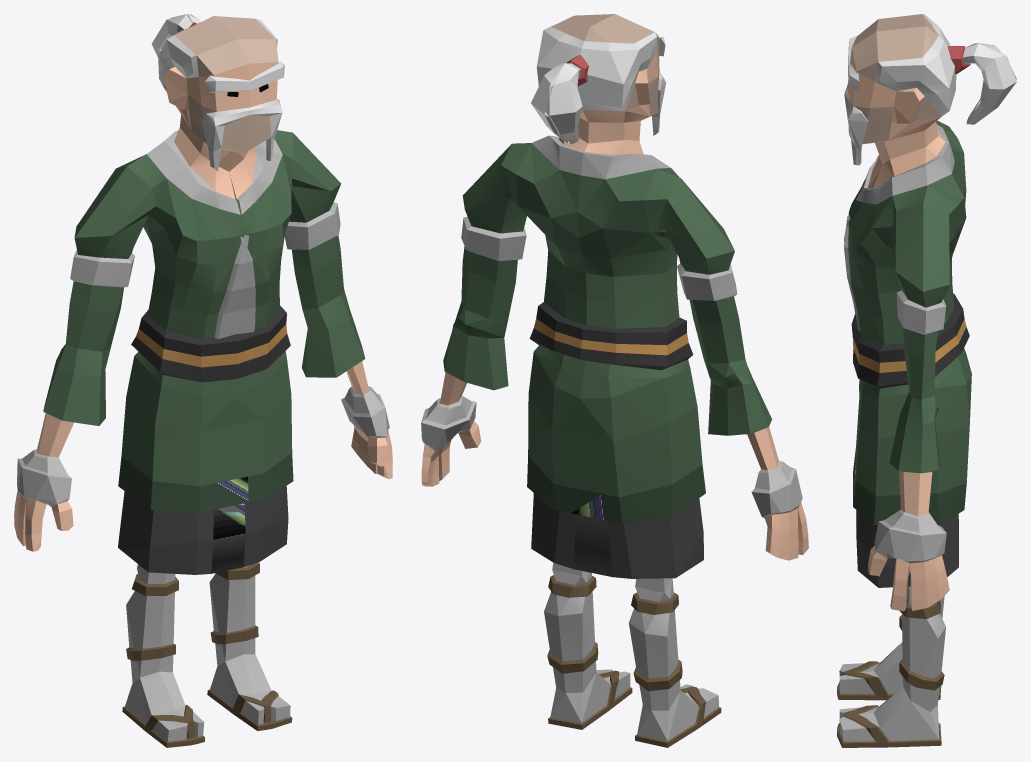
File: Monk (1).fbx
3 renders of one model, left to right at view 1: azimuth 30°, elevation 25°; view 2: azimuth 150°, elevation 25°; view 3: azimuth 270°, elevation 25°, orthographic. The views are drawn at different scales.
Visible parts, largest first — view 1: Character_Sensei; view 2: Character_Sensei; view 3: Character_Sensei.
Part boxes in pixels (x1=…): Character_Sensei: x1=14, y1=14, x2=392, y2=747; Character_Sensei: x1=421, y1=14, x2=808, y2=747; Character_Sensei: x1=837, y1=14, x2=1016, y2=747.
Size of the model in its own units: 99.32 by 179 by 41.45.
